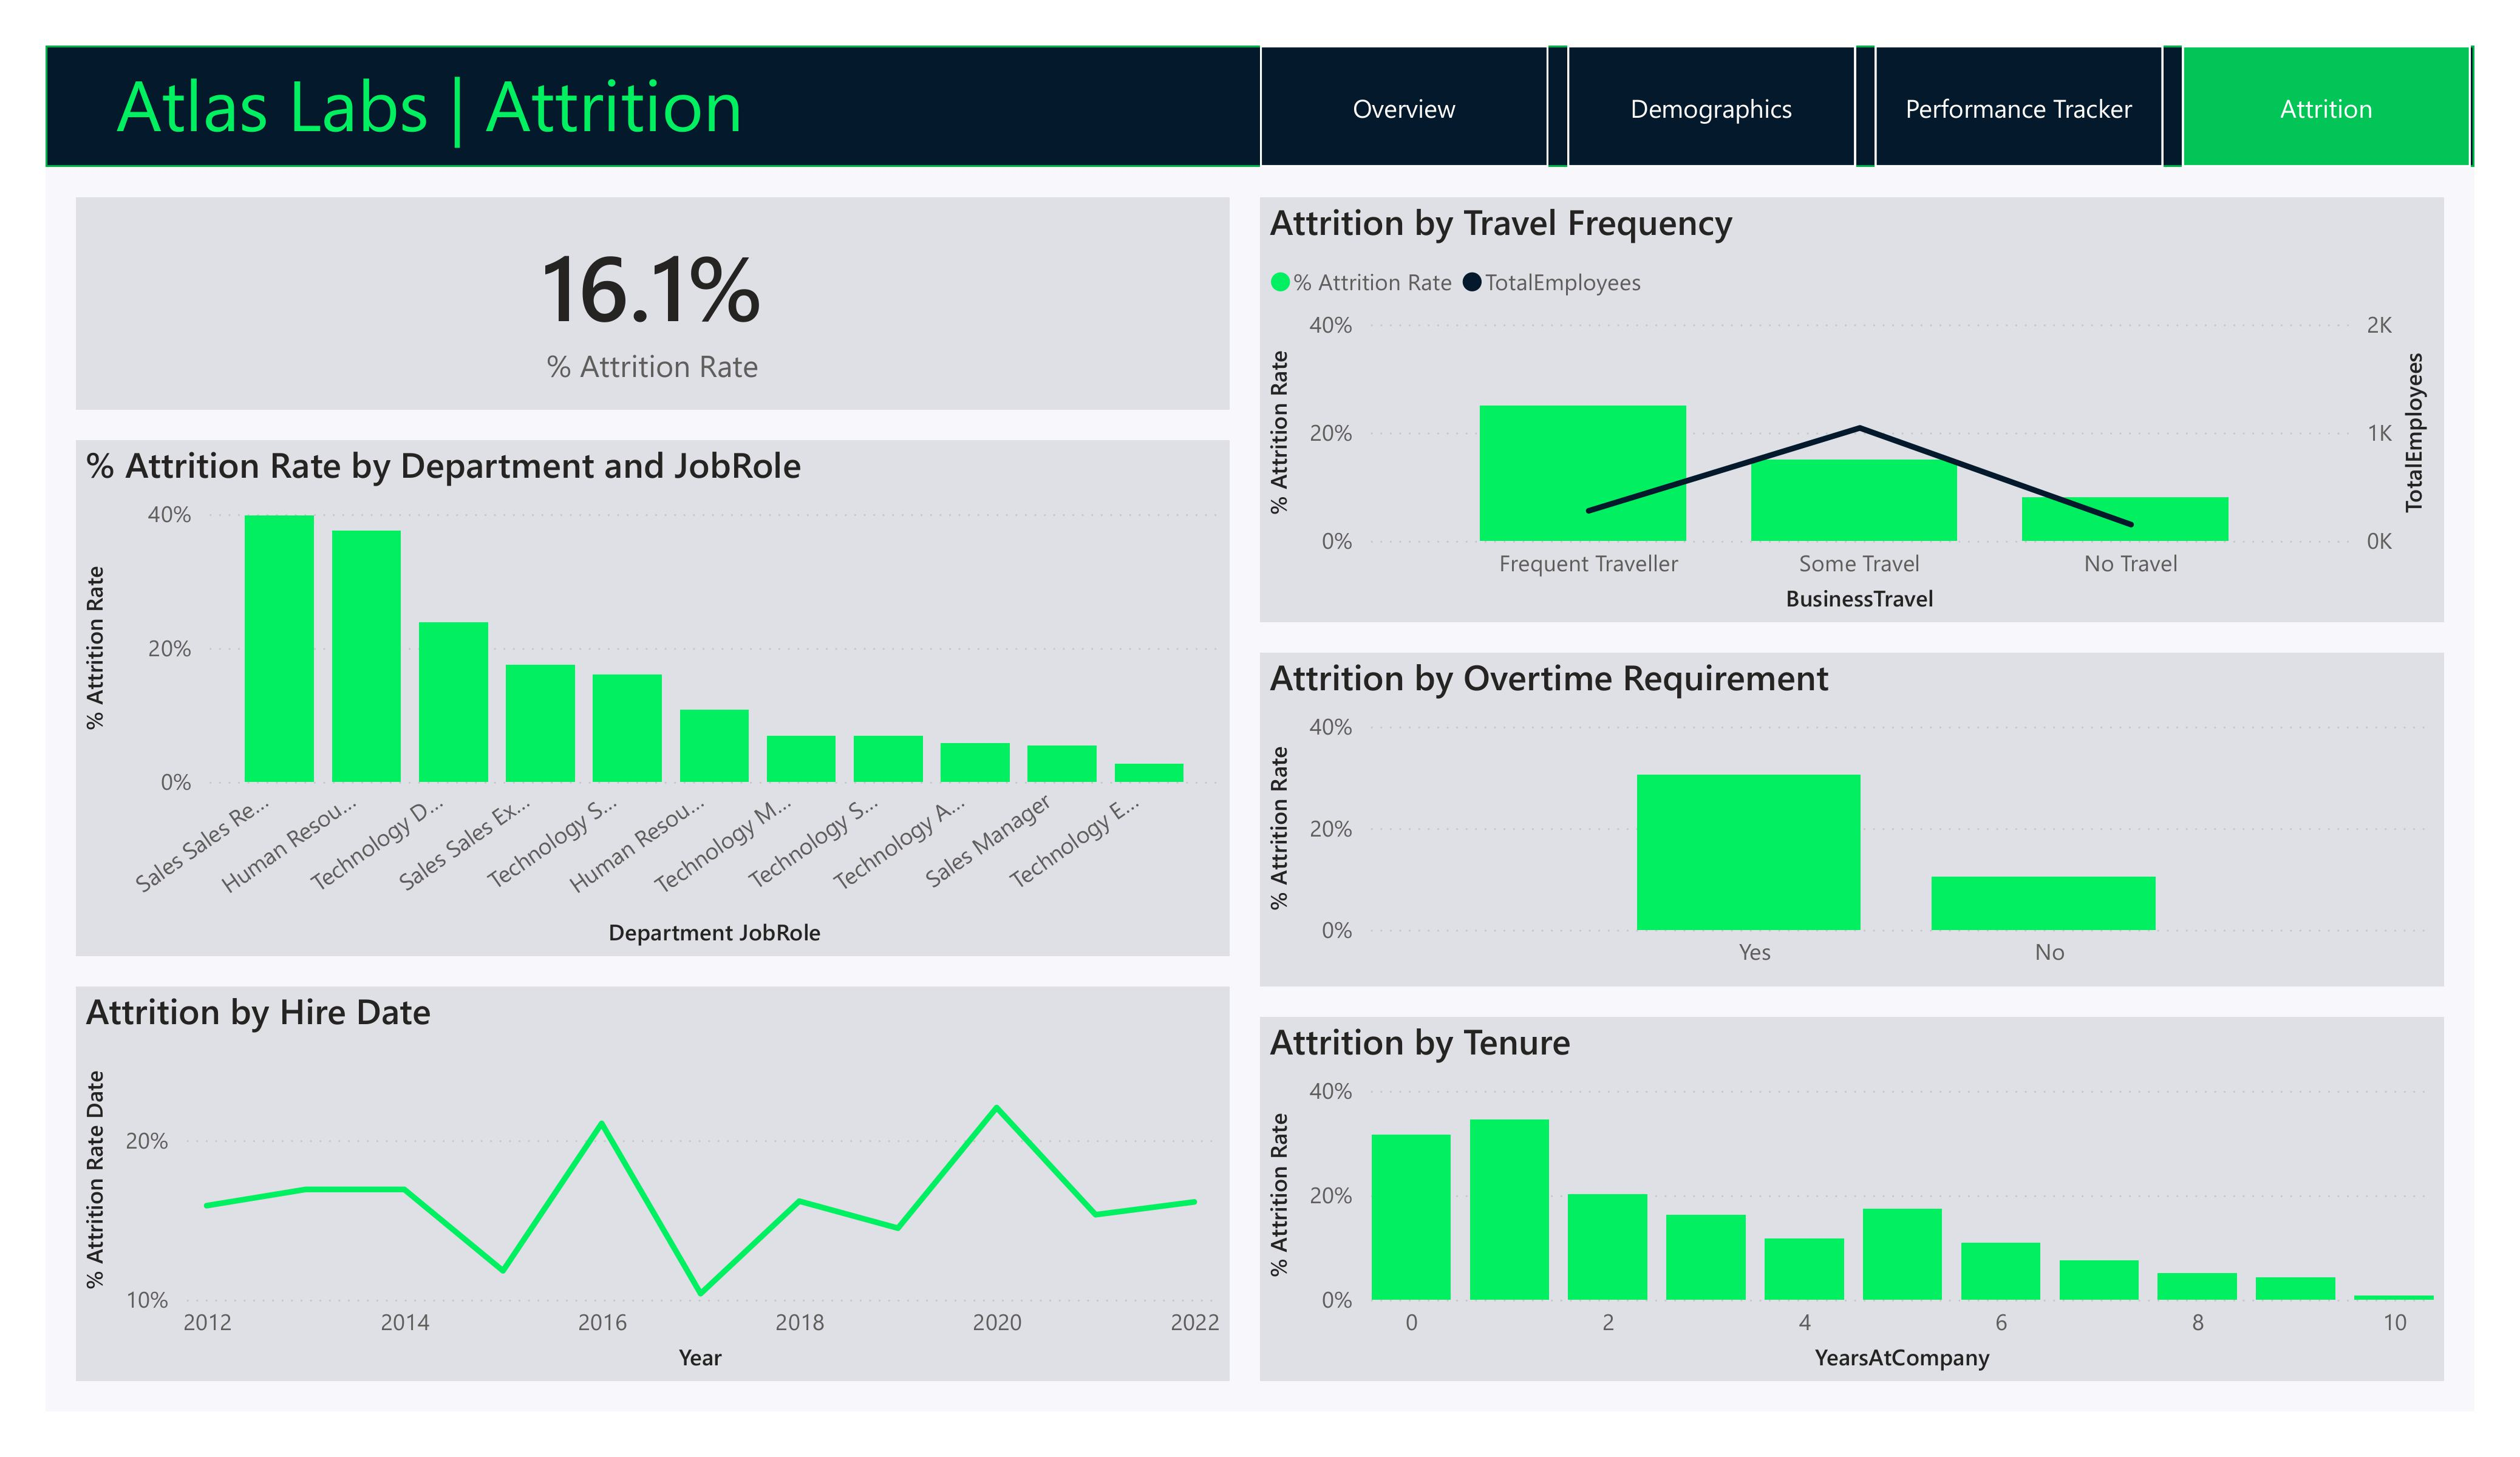

The dashboard page shown, as its layout file describes it:
{"tool":"powerbi","page":{"name":"Attrition","canvas":[1280,720],"ordinal":3},"visuals":[{"type":"card","fields":{"Values":["_Measures.% Attrition Rate"]},"box":[16,80,608,112],"z":0},{"type":"columnChart","fields":{"Category":["DimEmployee.Department","DimEmployee.JobRole"],"Y":["_Measures.% Attrition Rate"]},"box":[16,208,608,272],"z":1000},{"type":"lineChart","title":"Attrition by Hire Date","fields":{"Y":["_Measures.% Attrition Rate Date"],"Category":["DimDate.Date.Variation.Date Hierarchy.Year","DimDate.Date.Variation.Date Hierarchy.Quarter","DimDate.Date.Variation.Date Hierarchy.Month","DimDate.Date.Variation.Date Hierarchy.Day"]},"box":[16,496,608,208],"z":2000},{"type":"lineStackedColumnComboChart","title":"Attrition by Travel Frequency","fields":{"Y":["_Measures.% Attrition Rate"],"Category":["DimEmployee.BusinessTravel"],"Y2":["_Measures.TotalEmployees"]},"box":[640,80,624,224],"z":3000},{"type":"columnChart","title":"Attrition by Overtime Requirement","fields":{"Category":["DimEmployee.OverTime"],"Y":["_Measures.% Attrition Rate"]},"box":[640,320,624,176],"z":4000},{"type":"columnChart","title":"Attrition by Tenure","fields":{"Category":["DimEmployee.YearsAtCompany"],"Y":["_Measures.% Attrition Rate"]},"box":[640,512,624,192],"z":5000},{"type":"shape","box":[0,0,1280,64],"z":6000},{"type":"textbox","box":[32,0,624,64],"z":7000},{"type":"pageNavigator","box":[640,0,640,64],"z":8000}]}

Visuals, with their boxes on the page's 1280x720 design canvas (x1, y1, x2, y2). These are canvas units, not pixel positions in the 2520x1457 screenshot, which may show the page scaled, cropped or inside an application window:
card - _Measures.% Attrition Rate: x1=16, y1=80, x2=624, y2=192
columnChart - DimEmployee.Department x DimEmployee.JobRole: x1=16, y1=208, x2=624, y2=480
"Attrition by Hire Date" lineChart: x1=16, y1=496, x2=624, y2=704
"Attrition by Travel Frequency" lineStackedColumnComboChart: x1=640, y1=80, x2=1264, y2=304
"Attrition by Overtime Requirement" columnChart: x1=640, y1=320, x2=1264, y2=496
"Attrition by Tenure" columnChart: x1=640, y1=512, x2=1264, y2=704
shape: x1=0, y1=0, x2=1280, y2=64
textbox: x1=32, y1=0, x2=656, y2=64
pageNavigator: x1=640, y1=0, x2=1280, y2=64
